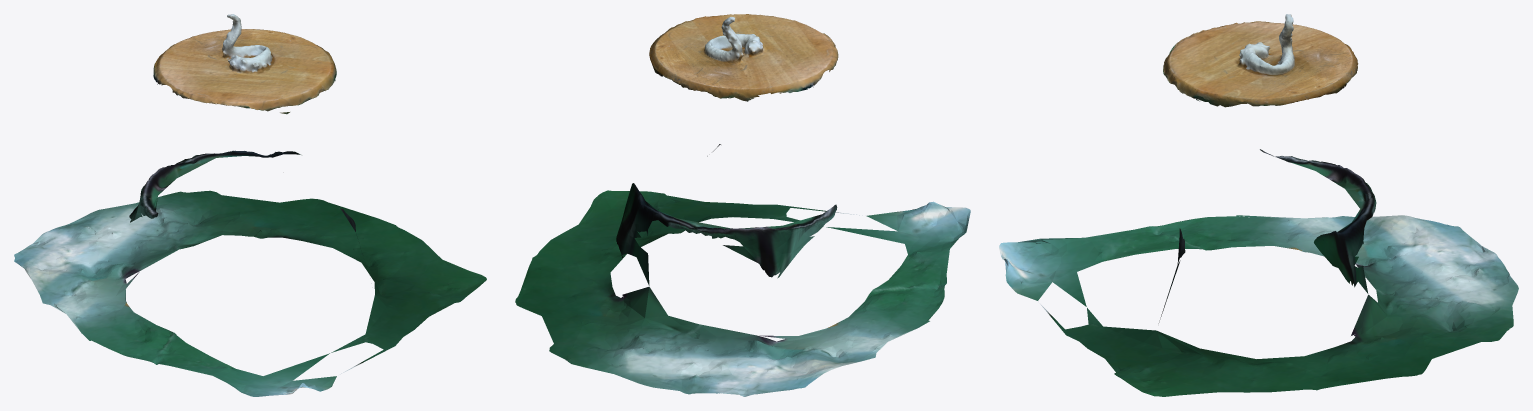
The model's file is Scaniverse 2026-05-26 113441_20260607_221112.glb.
3 views of the same model, side by side, from view 1: azimuth 30°, elevation 25°; view 2: azimuth 150°, elevation 25°; view 3: azimuth 270°, elevation 25° (orthographic). The views are drawn at different scales.
Parts seen in each view (by area): view 1: mesh; view 2: mesh; view 3: mesh.
Part boxes in pixels (x1,y1,x2,y2): mesh: [14, 14, 486, 396]; mesh: [515, 14, 970, 396]; mesh: [999, 14, 1518, 396].
Size of the model in its own units: 0.7427 by 0.5486 by 0.8745.
Materials: 1 (1 with a texture image).
